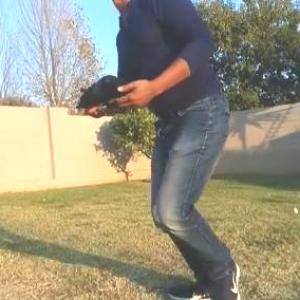follow: (74, 0, 247, 299)
